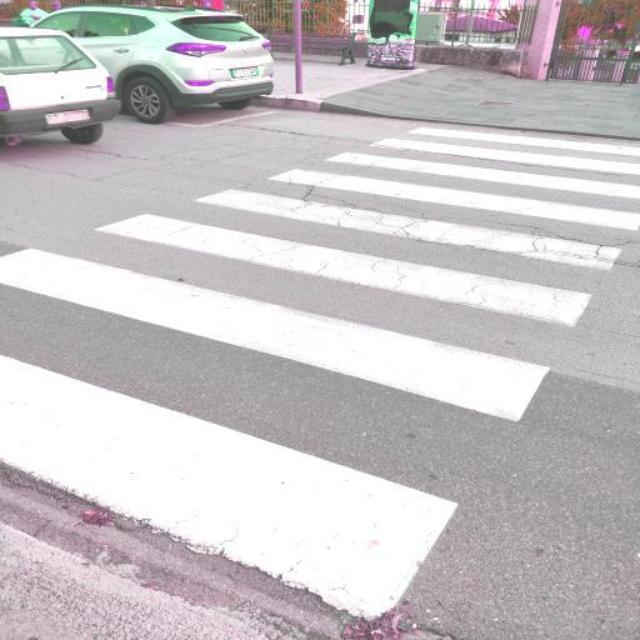sidewalk: (0, 117, 636, 640)
